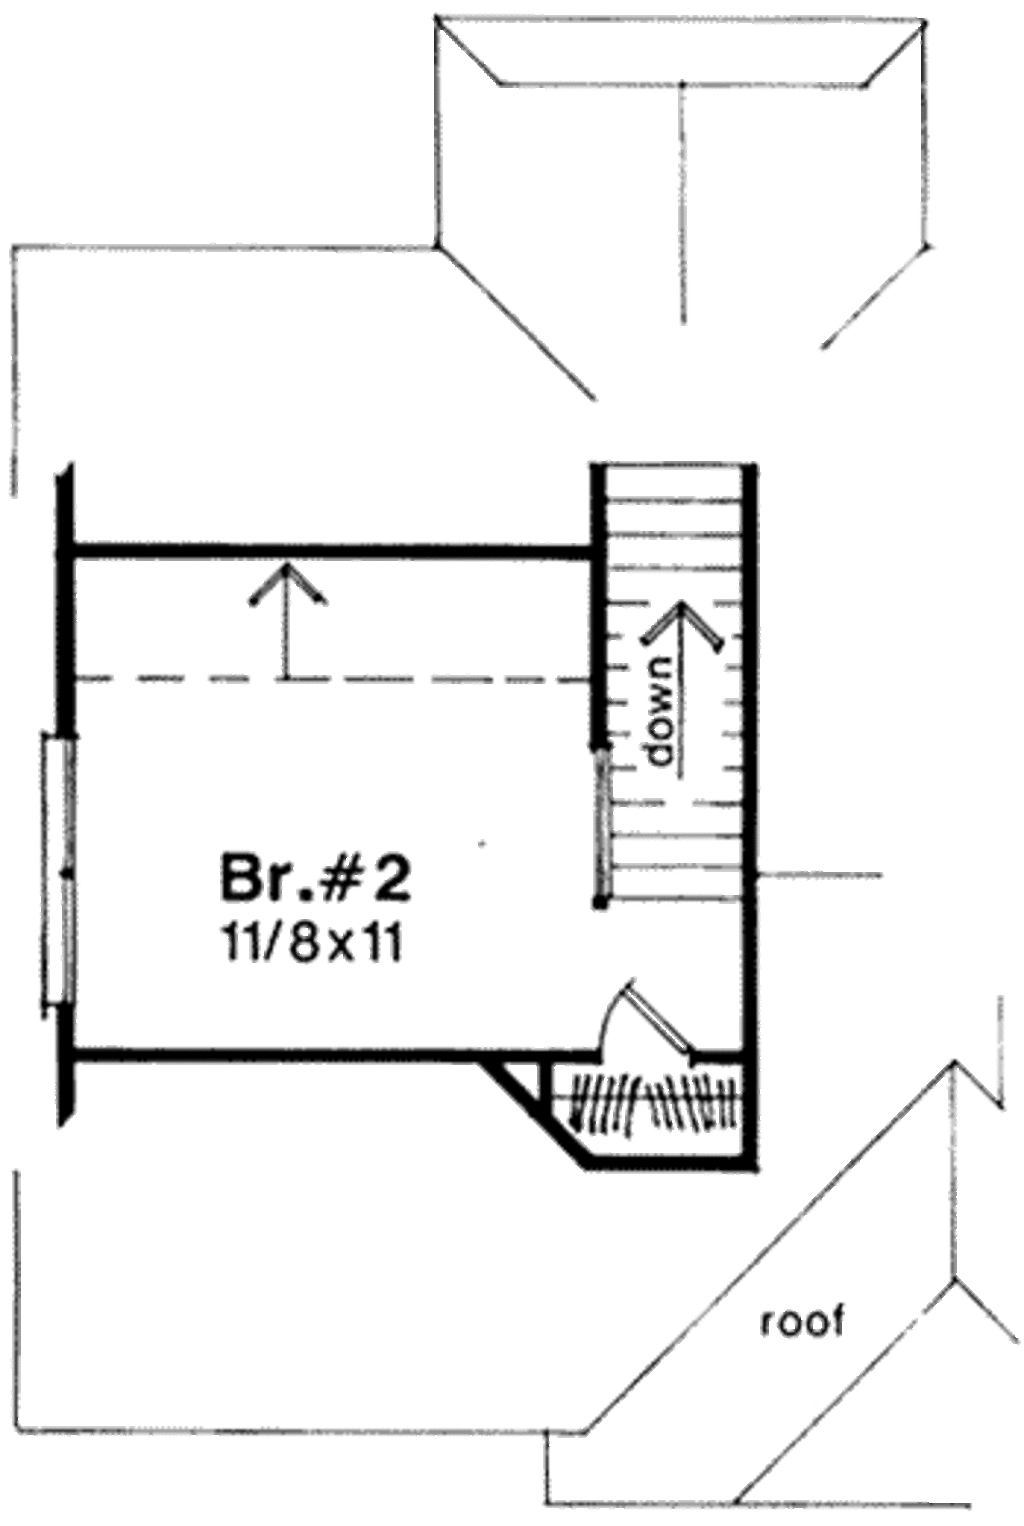door: (590, 980, 701, 1058)
stairs: (592, 458, 745, 908)
windows: (37, 725, 85, 1004)
